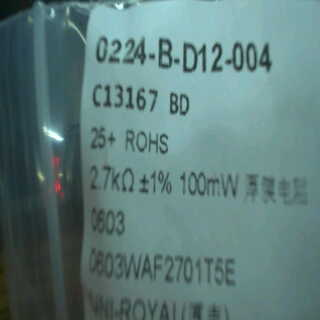2.7kR: (86, 162, 138, 200)
